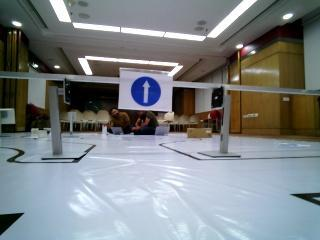straight: (117, 65, 172, 110)
